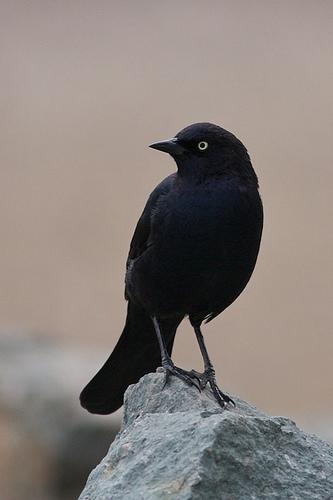009.Brewer_Blackbird: (76, 122, 271, 415)
